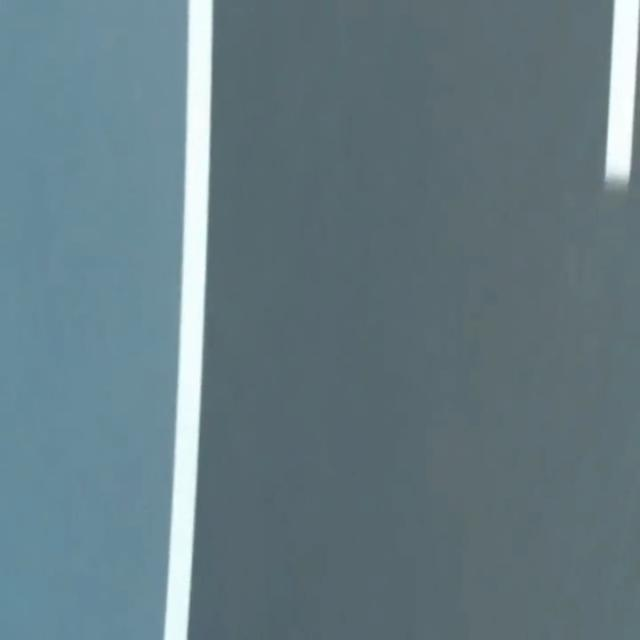center: (604, 0, 639, 188)
left: (164, 0, 212, 639)
